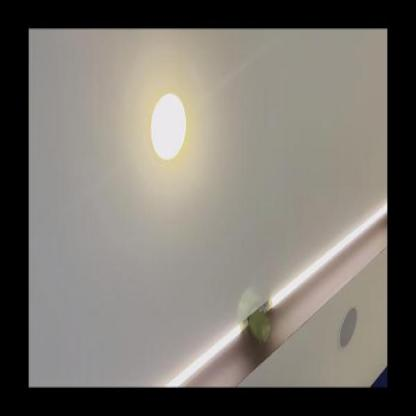light_on: (148, 84, 190, 172)
